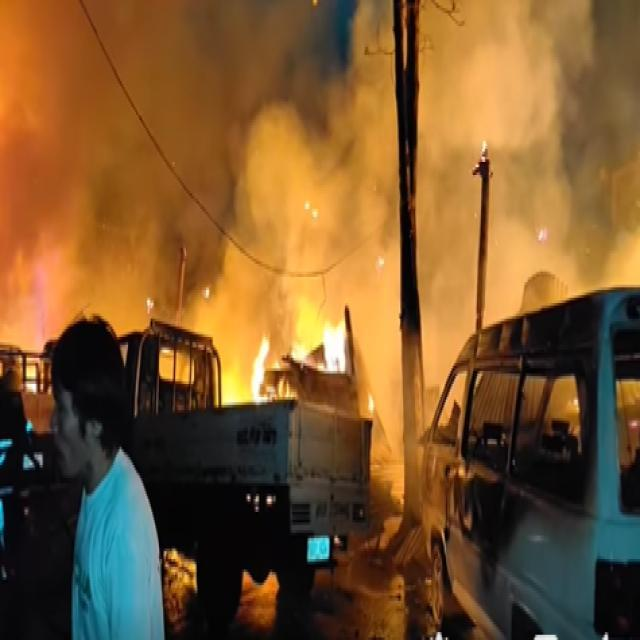Fire: (241, 315, 351, 409)
Smoke: (172, 0, 394, 413), (408, 0, 640, 303)
